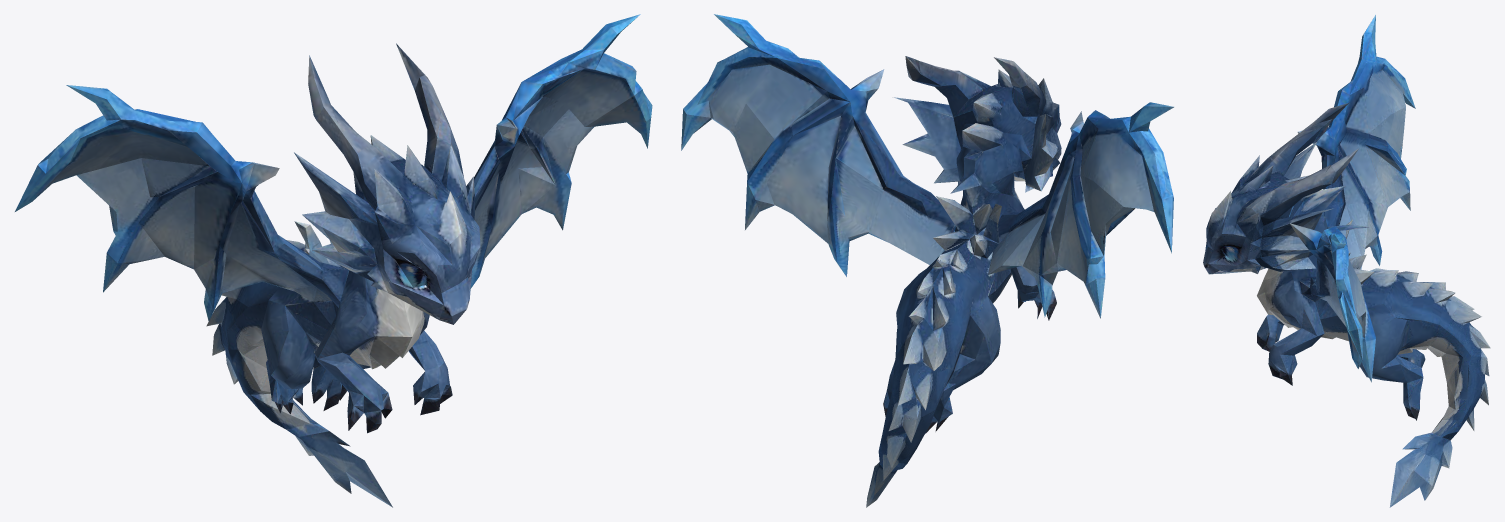
Rendered from fam_drake.glb.
3 views of the same model, side by side, from view 1: azimuth 30°, elevation 25°; view 2: azimuth 150°, elevation 25°; view 3: azimuth 270°, elevation 25° (orthographic). The views are drawn at different scales.
Visible parts, largest first — view 1: output_unwrapped; view 2: output_unwrapped; view 3: output_unwrapped.
Part boxes in pixels (x1,y1,x2,y2): output_unwrapped: (15, 14, 652, 507); output_unwrapped: (681, 14, 1173, 507); output_unwrapped: (1203, 14, 1490, 507).
Size of the model in its own units: 1.9 by 1.55 by 1.08.
1 material, 1 textured.
